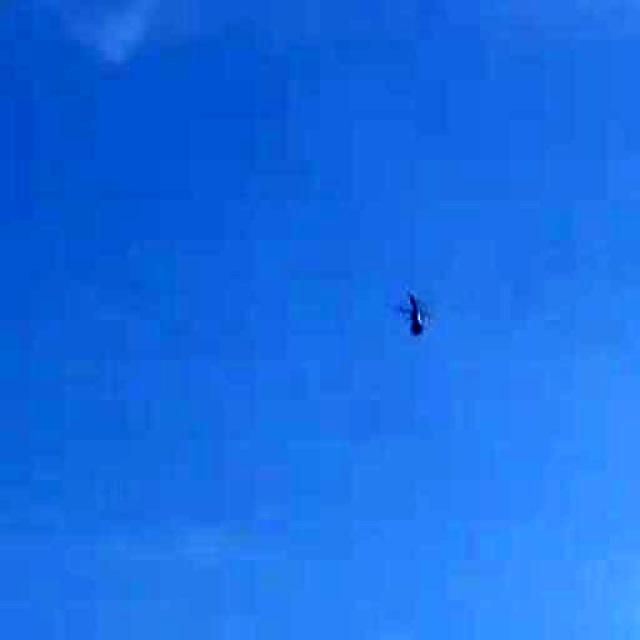drone: (375, 271, 458, 355)
